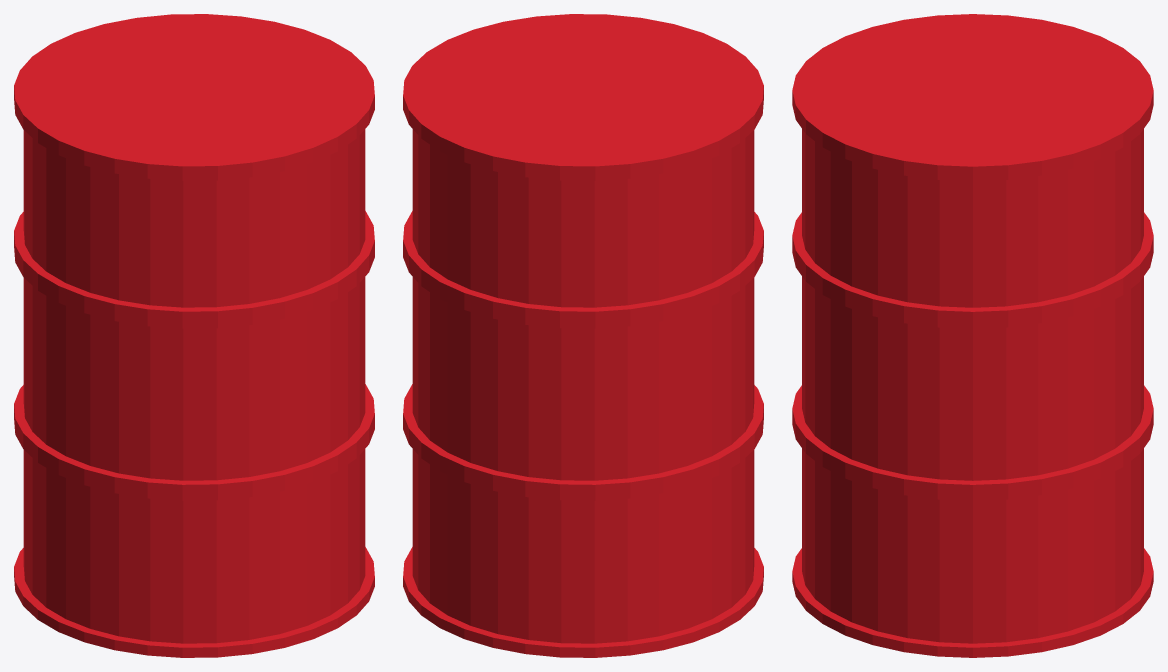
Rendered from explosive_barrel.fbx.
3 views of the same model, side by side, from view 1: azimuth 30°, elevation 25°; view 2: azimuth 150°, elevation 25°; view 3: azimuth 270°, elevation 25° (orthographic).
Parts seen in each view (by area): view 1: Cylinder; view 2: Cylinder; view 3: Cylinder.
Part boxes in pixels (x1,y1,x2,y2): Cylinder: [14, 14, 374, 657]; Cylinder: [403, 14, 763, 657]; Cylinder: [792, 14, 1153, 657].
Bounding box in the file's own units: 150 × 225 × 150.
